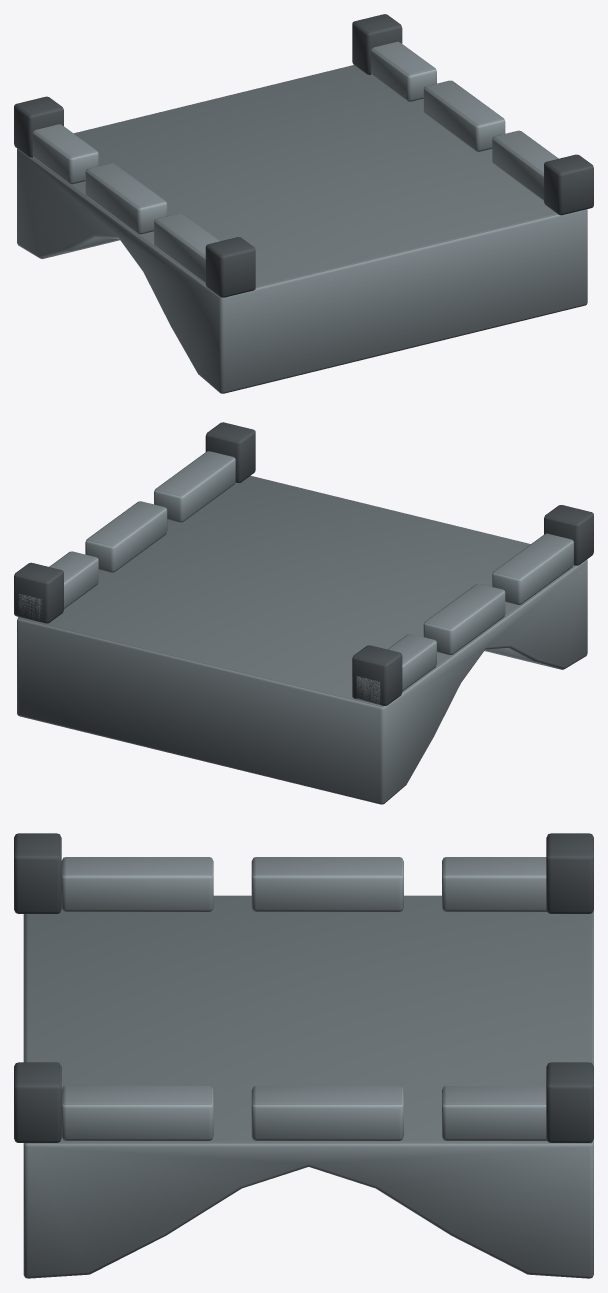
The model's file is bridge_stone.glb.
The picture shows the model from 3 angles, top to bottom: view 1: azimuth 30°, elevation 25°; view 2: azimuth 150°, elevation 25°; view 3: azimuth 270°, elevation 25°; orthographic projection. The views are drawn at different scales.
Visible parts, largest first — view 1: bridge_stone; view 2: bridge_stone; view 3: bridge_stone.
Part boxes in pixels (x1,y1,x2,y2): bridge_stone: (14,14,593,393); bridge_stone: (14,422,593,804); bridge_stone: (14,833,593,1278).
Size of the model in its own units: 6.3 by 2.3 by 6.1.
Materials: 1 (1 with a texture image).
